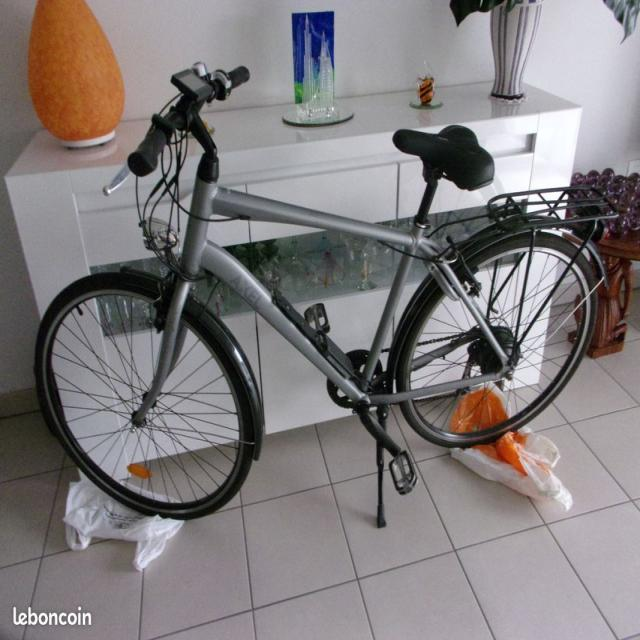Bike: (34, 60, 620, 529)
